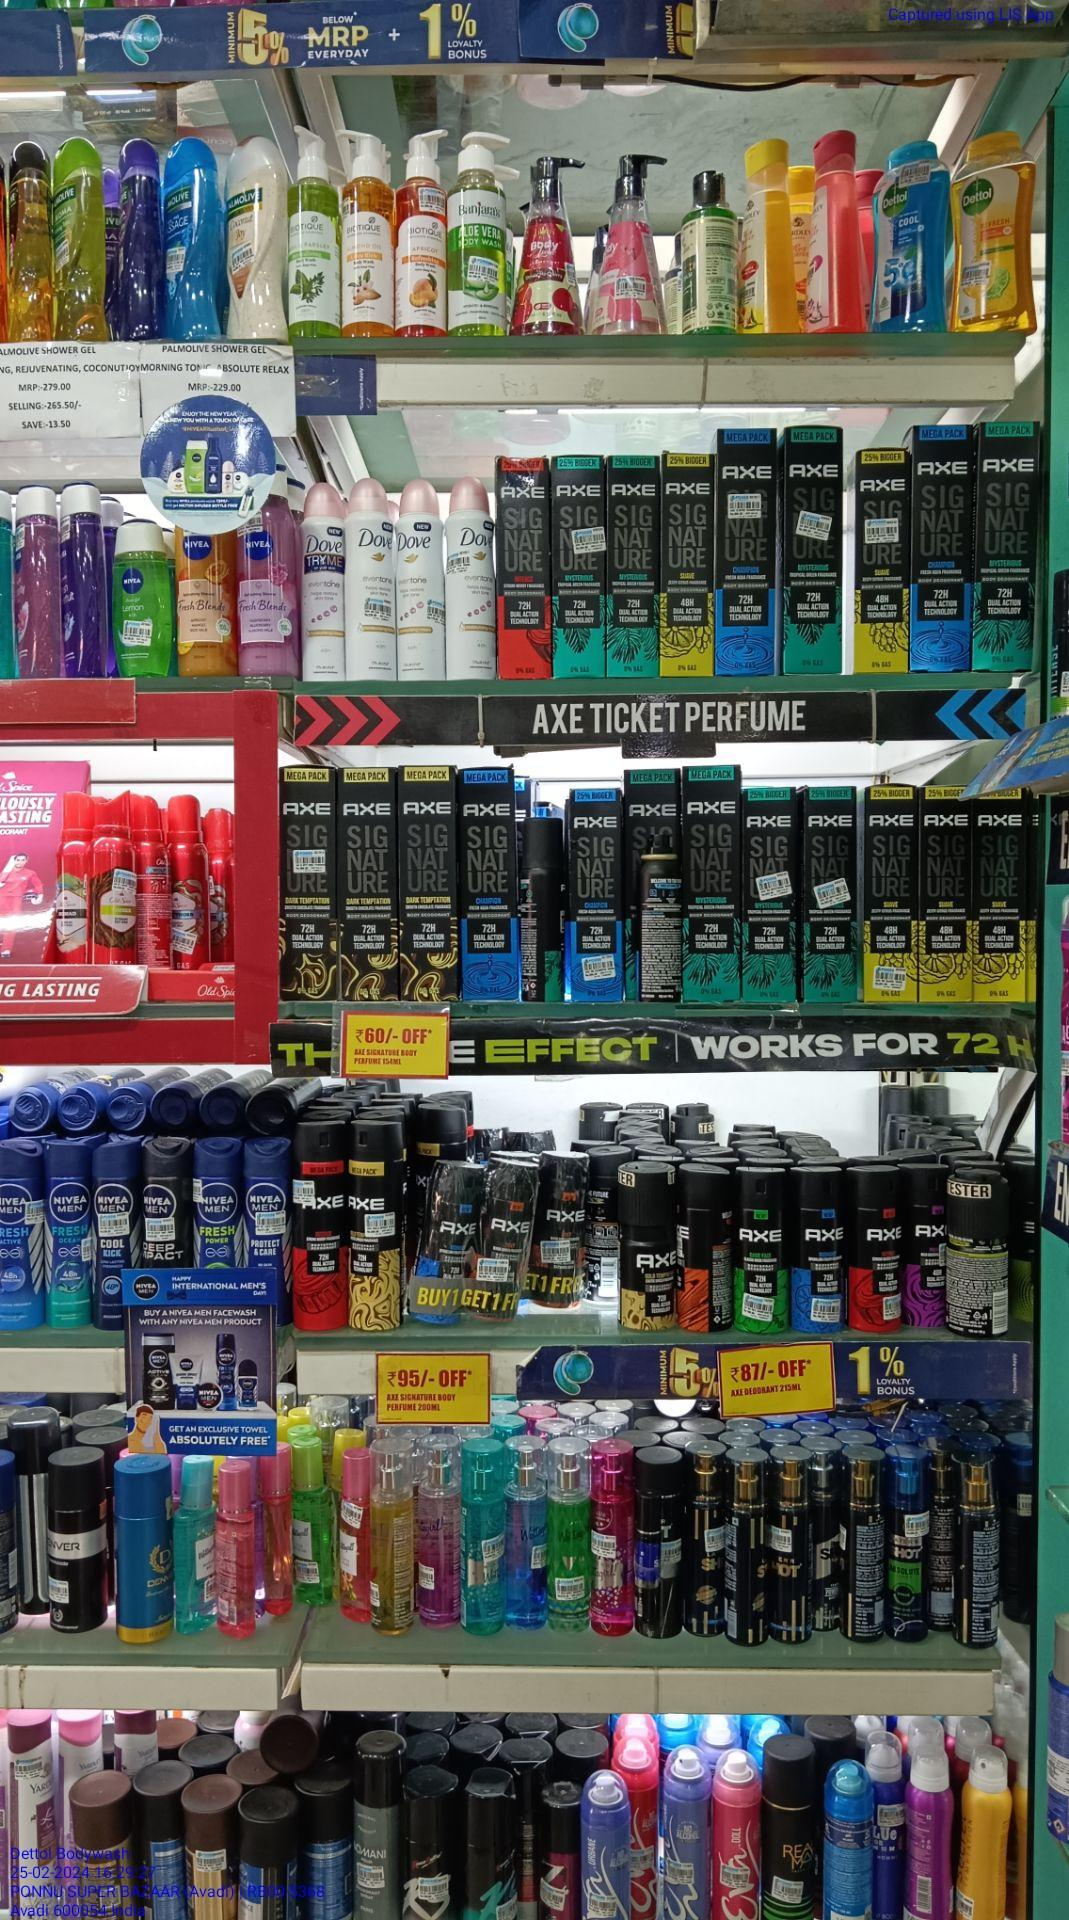Dettol_Bodywash_Cool: (873, 139, 952, 330)
Dettol_Bodywash_Refresh: (956, 130, 1033, 334)
